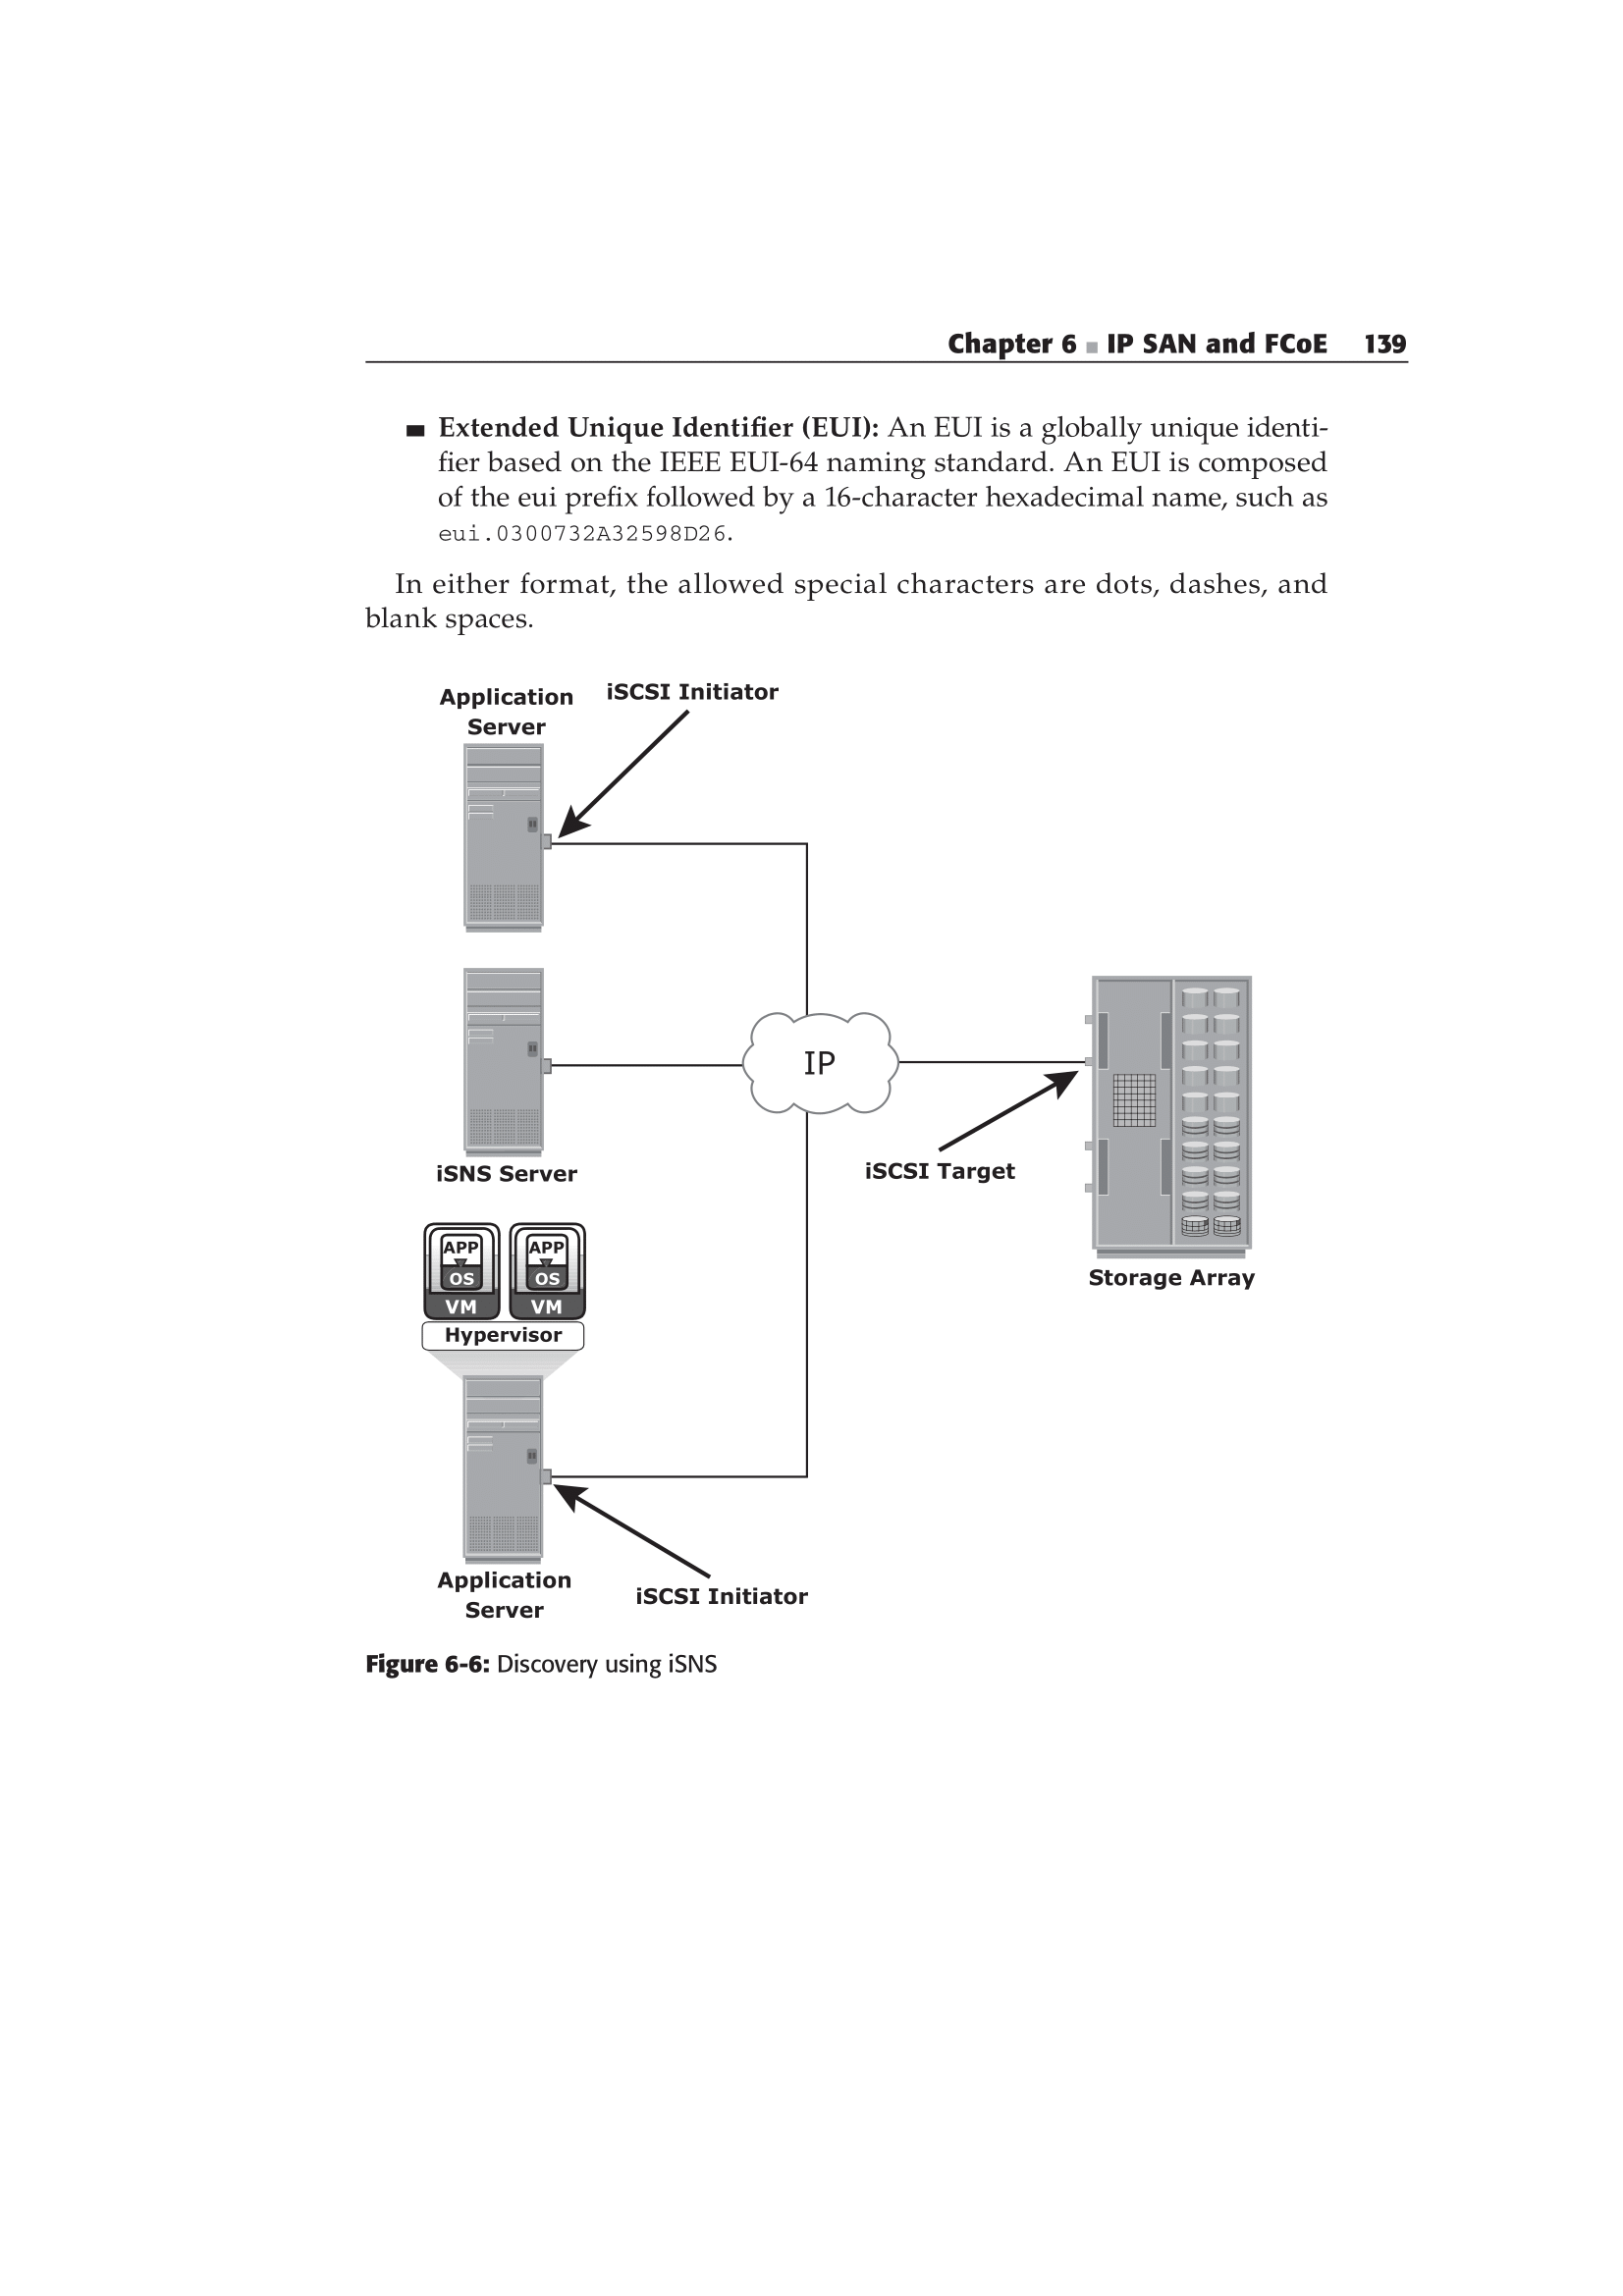Image: (416, 667, 1310, 1629)
Paragraph: (402, 383, 1338, 542), (360, 548, 1370, 657), (945, 302, 1433, 379), (360, 1634, 745, 1703)
